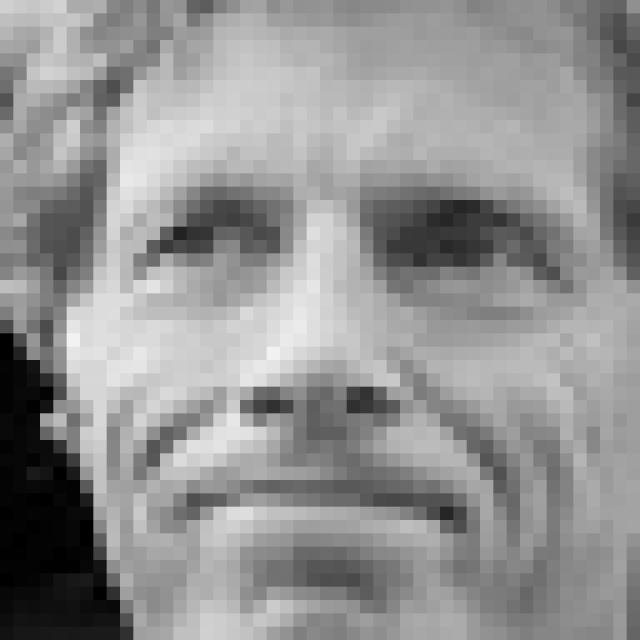sad: (107, 180, 575, 618)
